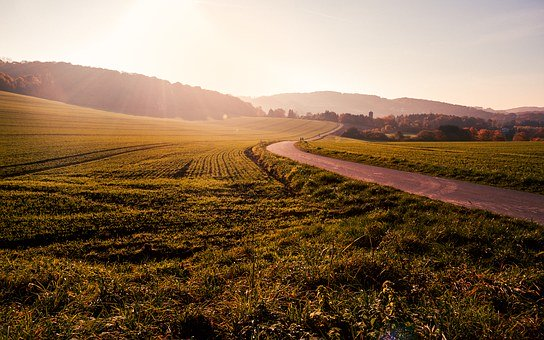field: (9, 112, 544, 339)
mountain: (7, 60, 394, 128)
sky: (3, 3, 544, 86)
